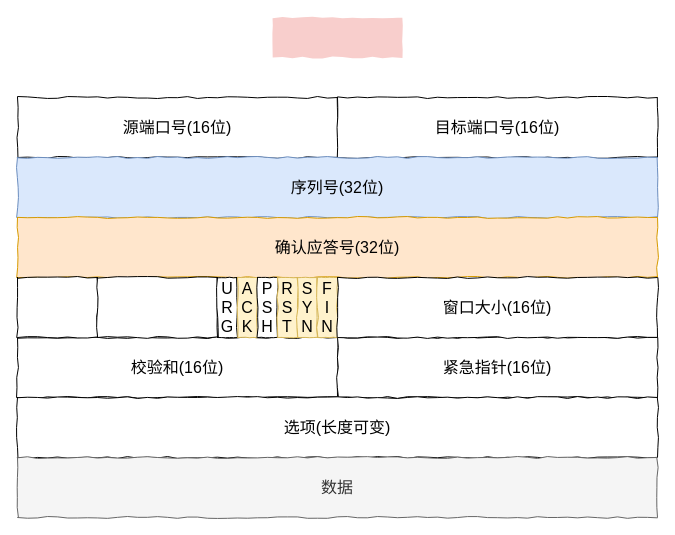
This 675x535 diagram has some shape labels left out. The shapes that lost their labels are listed below. From the top down, each one's box as (x1, y1, x2, y2) in pixels, then its label:
(272, 17, 402, 57): TCP 头部格式
(16, 276, 98, 338): 首部长度 (4位)
(96, 276, 218, 338): 保留 (6位)
